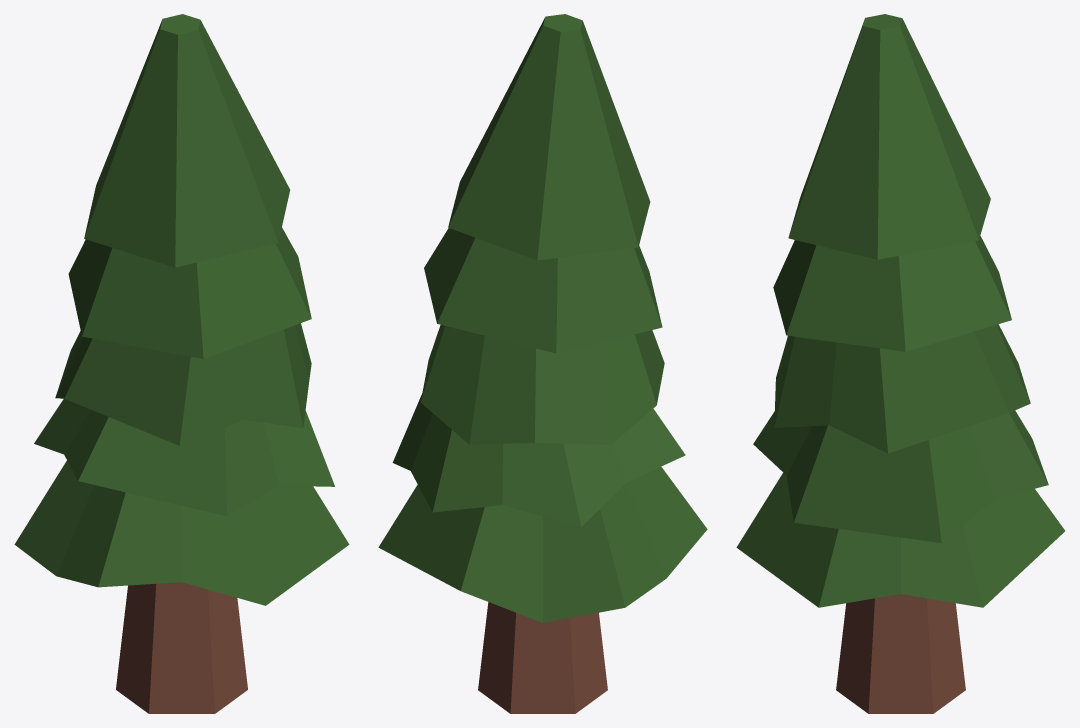
Rendered from tree.gltf.
3 views of the same model, side by side, from view 1: azimuth 30°, elevation 25°; view 2: azimuth 150°, elevation 25°; view 3: azimuth 270°, elevation 25° (orthographic).
Parts seen in each view (by area): view 1: Top; view 2: Top; view 3: Top.
Boxes of the visible parts, x1=… form: Top: x1=14, y1=14, x2=349, y2=713; Top: x1=378, y1=14, x2=707, y2=713; Top: x1=736, y1=14, x2=1064, y2=713.
Bounding box in the file's own units: 11.26 × 28.2 × 12.67.
